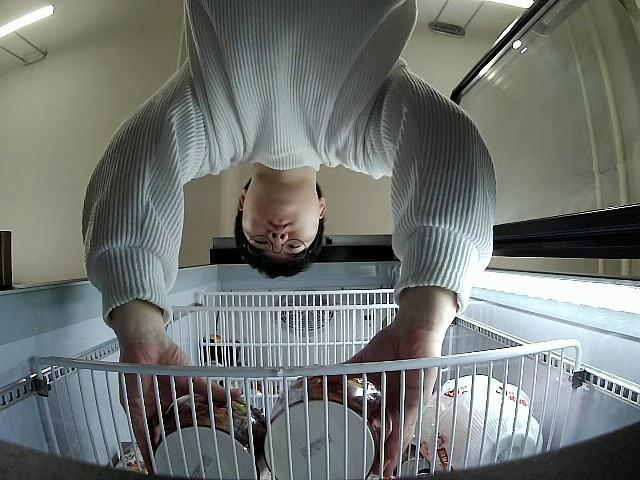05_nuguri_L: (268, 377, 390, 480), (154, 396, 266, 480)
